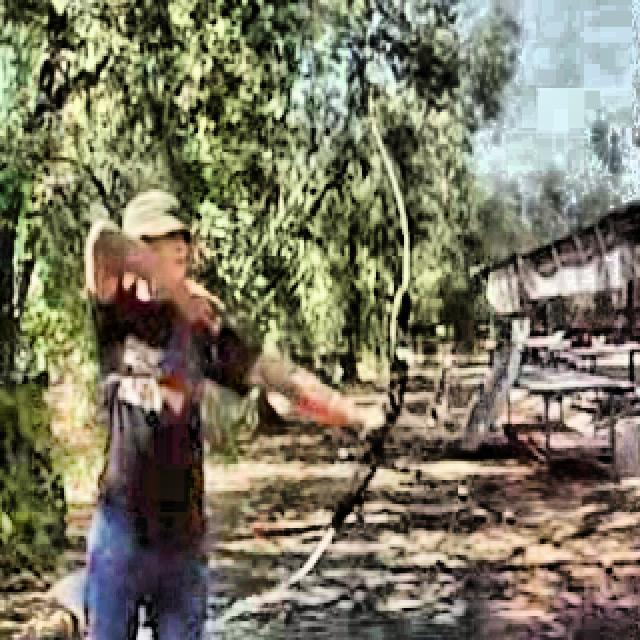I: (66, 176, 381, 640)
